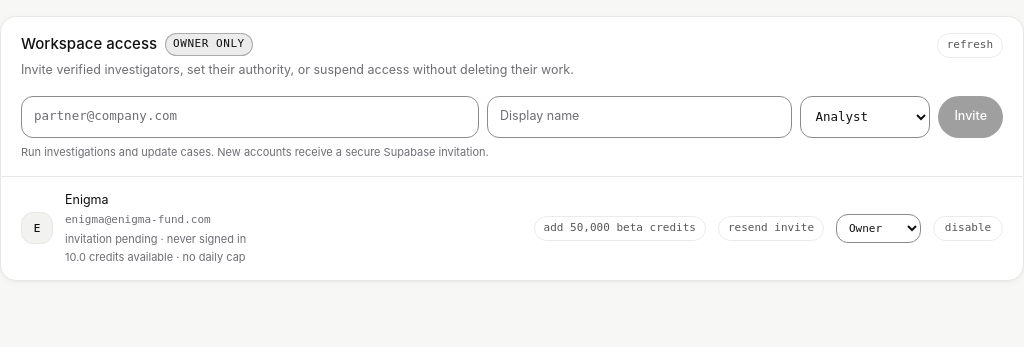
Test: TeamAccess invitation recovery › shows a pending member action and resends through the owner-only API
Click the button "resend invite" at (771, 228), box x1=718 y1=216 x2=824 y2=241
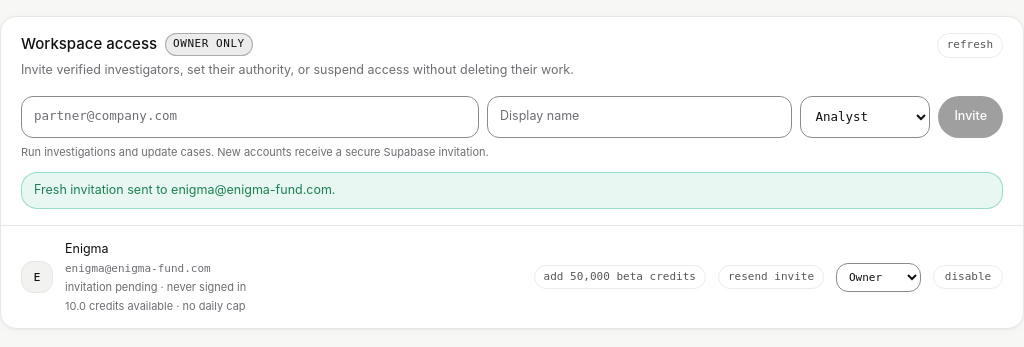
Check: the text "Fresh invitation sent to enigma@enigma-fund.com." is shown, box x1=21 y1=172 x2=1003 y2=209
